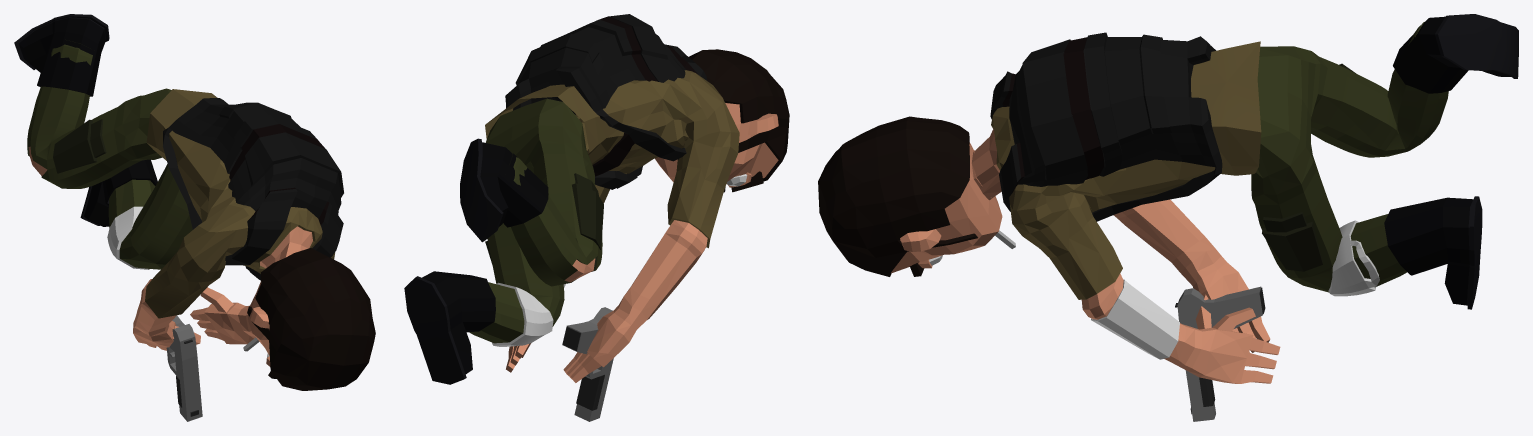
Rendered from frame_0054.obj.
3 views of the same model, side by side, from view 1: azimuth 30°, elevation 25°; view 2: azimuth 150°, elevation 25°; view 3: azimuth 270°, elevation 25° (orthographic). The views are drawn at different scales.
Parts seen in each view (by area): view 1: Body, Gun; view 2: Body, Gun; view 3: Body, Gun.
Boxes of the visible parts, box(x1,y1,x2,y2) form: Body: box(14, 14, 375, 390); Gun: box(166, 315, 202, 421); Body: box(404, 14, 789, 384); Gun: box(562, 307, 613, 421); Body: box(818, 14, 1518, 383); Gun: box(1175, 286, 1265, 421).
Size of the model in its own units: 1.25 by 2.3 by 3.6.
